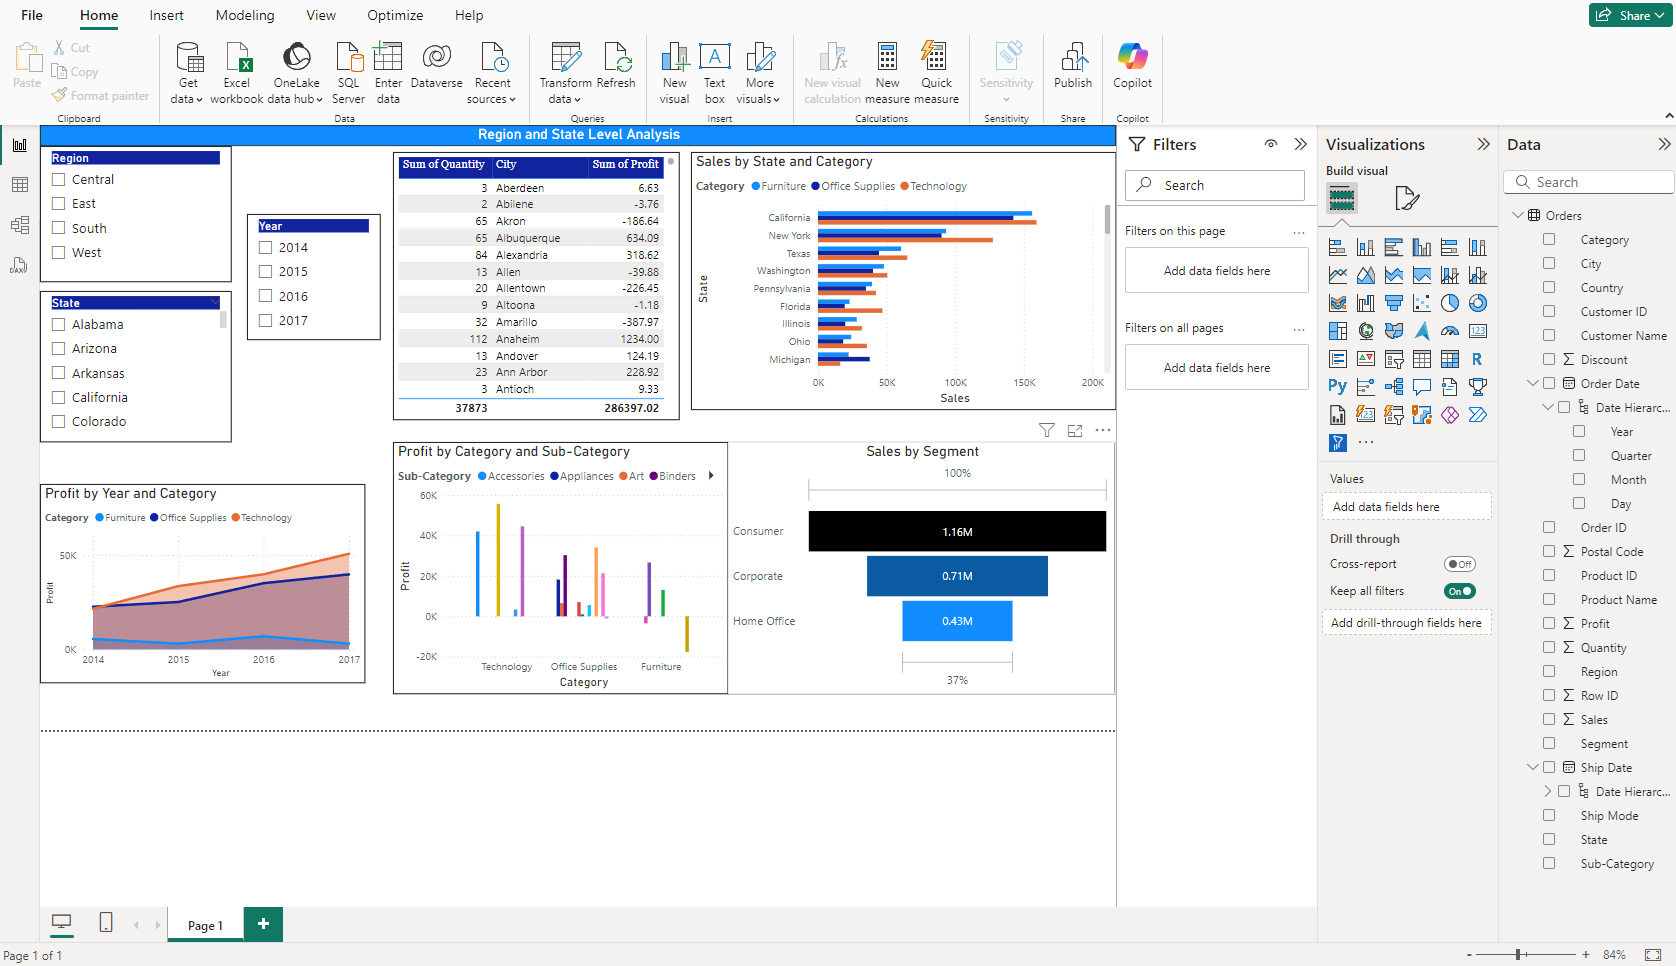

The page's visual inventory and layout, read from the dashboard file:
{"tool":"powerbi","page":{"name":"Page 1","canvas":[1280,720],"ordinal":0},"visuals":[{"type":"slicer","fields":{"Values":["Orders.State"]},"box":[0,197.5,228.4,179.6],"z":0},{"type":"slicer","fields":{"Values":["Orders.Region"]},"box":[0,25,228.4,161.8],"z":1000},{"type":"slicer","fields":{"Values":["Orders.Order Date.Variation.Date Hierarchy.Year"]},"box":[246.2,105.9,159.4,149.9],"z":2000},{"type":"textbox","title":"Region and State Level Analysis","box":[0,0,1280,25],"z":3000},{"type":"tableEx","fields":{"Values":["Sum(Orders.Quantity)","Orders.City","Sum(Orders.Profit)"]},"box":[419.9,32.1,341.4,318.8],"z":4000},{"type":"clusteredBarChart","title":"Sales by State and Category","fields":{"Category":["Orders.State"],"Series":["Orders.Category"],"Y":["Sum(Orders.Sales)"]},"box":[774.4,32.1,505.6,306.9],"z":5000},{"type":"areaChart","title":"Profit by Year and Category","fields":{"Category":["Orders.Order Date.Variation.Date Hierarchy.Year"],"Series":["Orders.Category"],"Y":["Sum(Orders.Profit)"]},"box":[0,427.1,386.6,236.7],"z":6000},{"type":"clusteredColumnChart","title":"Profit by Category and Sub-Category","fields":{"Category":["Orders.Category"],"Y":["Sum(Orders.Profit)"],"Series":["Orders.Sub-Category"]},"box":[419.9,377.1,398.5,299.8],"z":7000},{"type":"funnel","title":"Sales by Segment","fields":{"Category":["Orders.Segment"],"Y":["Sum(Orders.Sales)"]},"box":[819,377,461,300],"z":8000}]}

Visuals, with their boxes on the page's 1280x720 design canvas (x1, y1, x2, y2). These are canvas units, not pixel positions in the 1676x966 screenshot, which may show the page scaled, cropped or inside an application window:
slicer - Orders.State: x1=0, y1=198, x2=228, y2=377
slicer - Orders.Region: x1=0, y1=25, x2=228, y2=187
slicer - Orders.Order Date.Variation.Date Hierarchy.Year: x1=246, y1=106, x2=406, y2=256
"Region and State Level Analysis" textbox: x1=0, y1=0, x2=1280, y2=25
tableEx - Sum(Orders.Quantity) x Orders.City: x1=420, y1=32, x2=761, y2=351
"Sales by State and Category" clusteredBarChart: x1=774, y1=32, x2=1280, y2=339
"Profit by Year and Category" areaChart: x1=0, y1=427, x2=387, y2=664
"Profit by Category and Sub-Category" clusteredColumnChart: x1=420, y1=377, x2=818, y2=677
"Sales by Segment" funnel: x1=819, y1=377, x2=1280, y2=677
